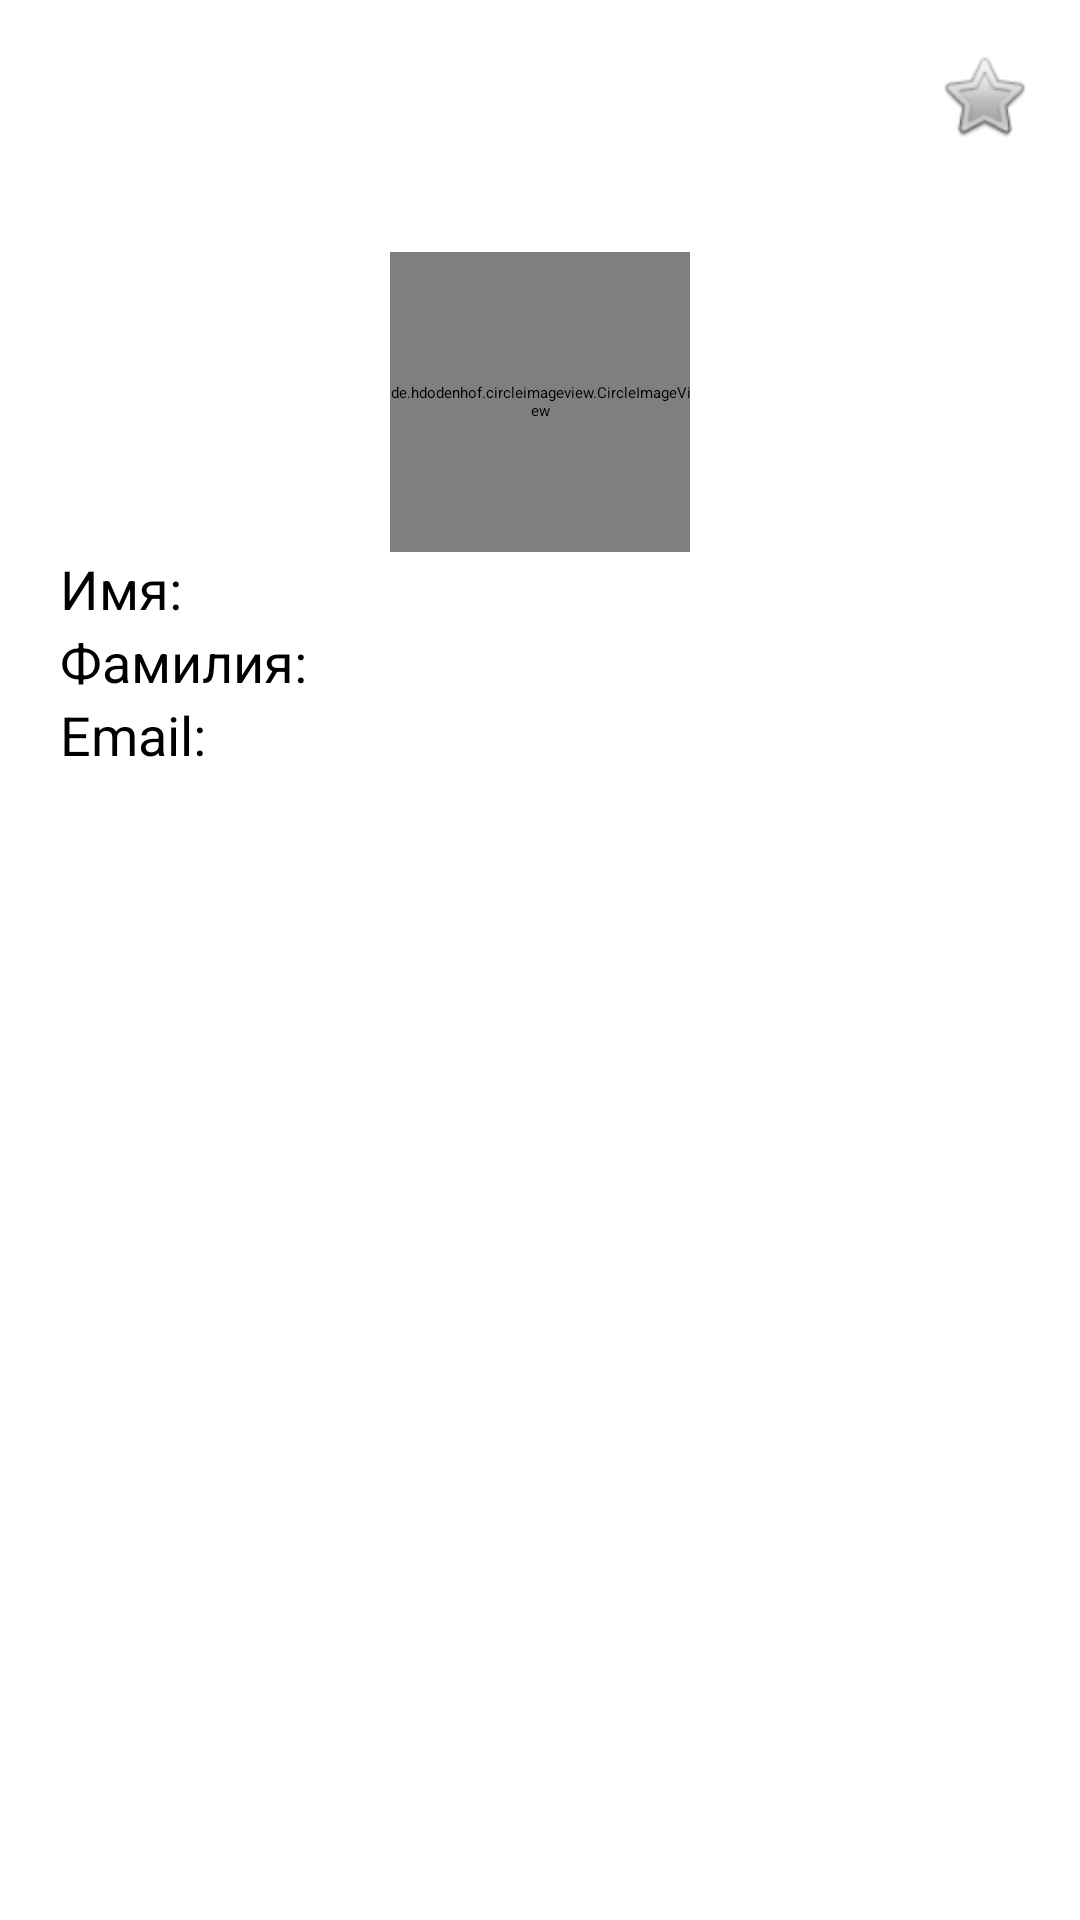

Screen size 1080*1920. Icon name, then its center in pixels as point (x, y):
star: point (985, 97)
